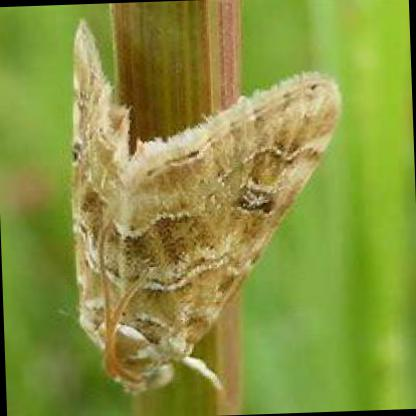Hellula undalis: (53, 12, 351, 399)
